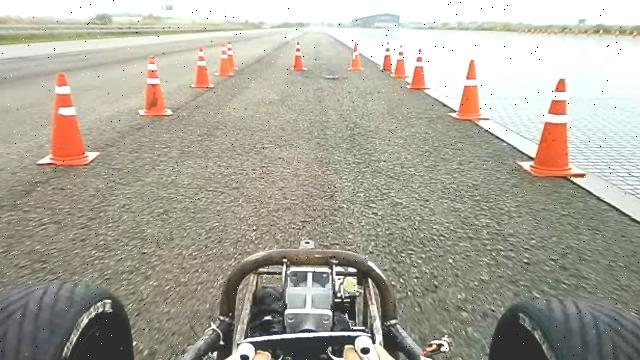red cone: (515, 76, 587, 178), (36, 72, 101, 166), (448, 58, 491, 121), (138, 55, 173, 116), (406, 45, 432, 91), (190, 47, 214, 88), (390, 44, 410, 78), (215, 45, 235, 77), (290, 40, 307, 72), (348, 41, 364, 71), (379, 40, 393, 71), (226, 41, 238, 71)
